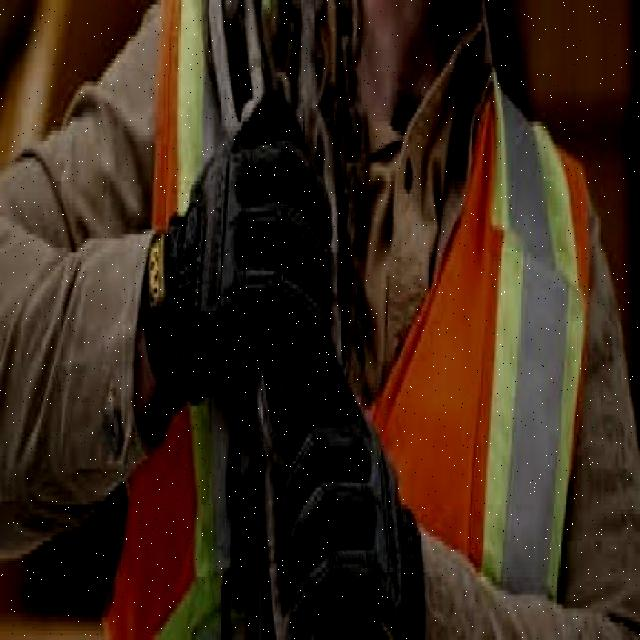Gloves: (150, 108, 336, 360), (266, 366, 426, 634)
